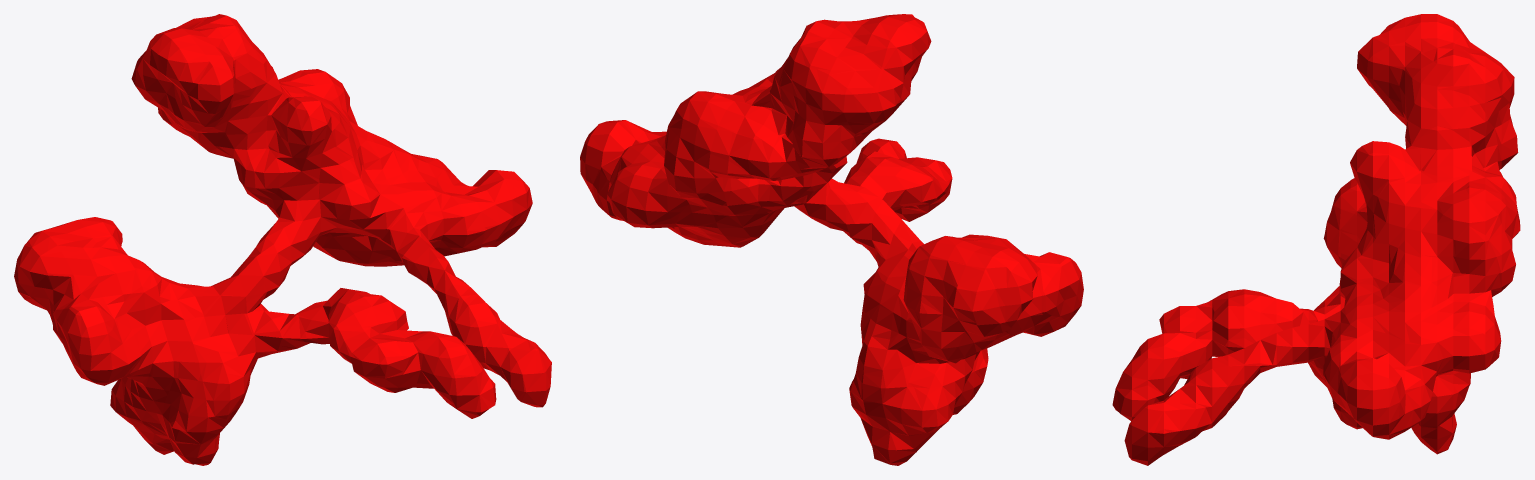
The model's file is rpoN_coarse.dae.
The picture shows the model from 3 angles, left to right: view 1: azimuth 30°, elevation 25°; view 2: azimuth 150°, elevation 25°; view 3: azimuth 270°, elevation 25°; orthographic projection. The views are drawn at different scales.
Parts seen in each view (by area): view 1: rpoN; view 2: rpoN; view 3: rpoN.
Boxes of the visible parts, x1,y1,x2,y2 form: rpoN: (14, 14, 551, 465); rpoN: (580, 14, 1083, 465); rpoN: (1112, 14, 1520, 465).
Size of the model in its own units: 111 by 94.78 by 80.66.
